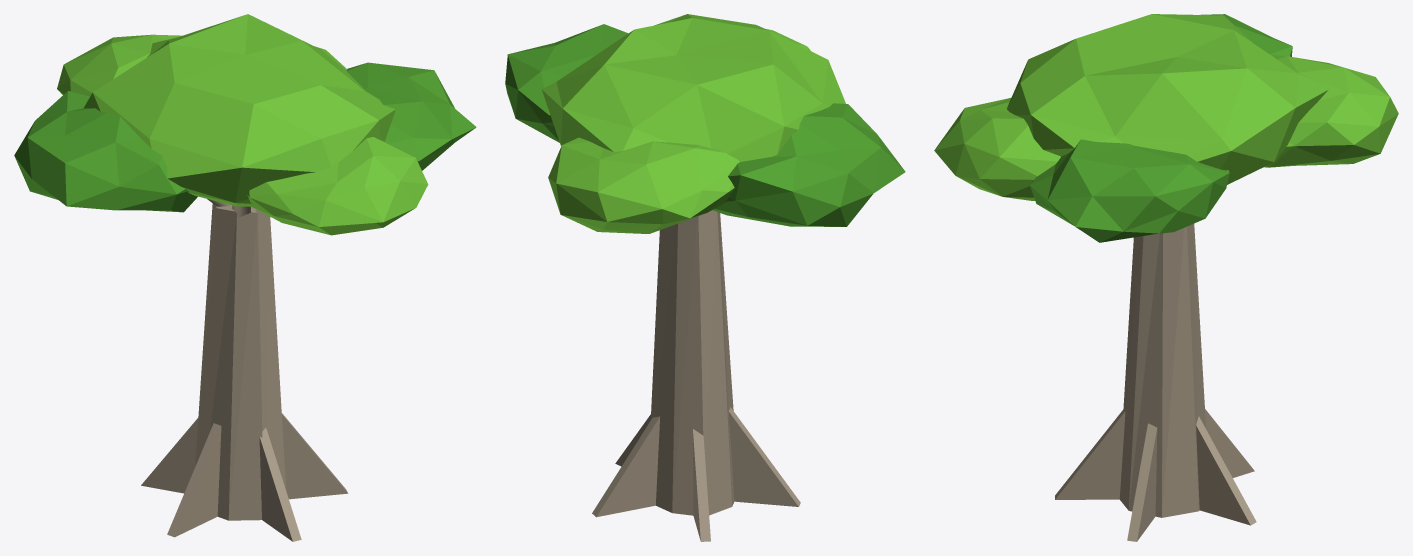
File: ceiba.glb
3 renders of one model, left to right at view 1: azimuth 30°, elevation 25°; view 2: azimuth 150°, elevation 25°; view 3: azimuth 270°, elevation 25°, orthographic.
Parts seen in each view (by area): view 1: copa_1, tronco, copa_3, copa_4, copa_2, copa_5, contrafuerte_3, contrafuerte_1, contrafuerte_2, contrafuerte_4; view 2: copa_1, tronco, copa_3, copa_5, copa_2, contrafuerte_3, contrafuerte_5, contrafuerte_4; view 3: copa_1, tronco, copa_2, copa_5, copa_4, contrafuerte_2, contrafuerte_5, contrafuerte_1, contrafuerte_4, copa_3.
Part boxes in pixels (left/top/right/bottom): copa_1: left=84, top=14, right=395, bottom=206; tronco: left=195, top=203, right=286, bottom=520; copa_3: left=14, top=91, right=197, bottom=212; copa_4: left=247, top=137, right=428, bottom=235; copa_2: left=346, top=62, right=476, bottom=170; copa_5: left=57, top=34, right=181, bottom=96; contrafuerte_3: left=167, top=423, right=221, bottom=537; contrafuerte_1: left=281, top=413, right=348, bottom=499; contrafuerte_2: left=259, top=427, right=301, bottom=541; contrafuerte_4: left=141, top=418, right=198, bottom=493; copa_1: left=541, top=14, right=845, bottom=161; tronco: left=650, top=210, right=734, bottom=515; copa_3: left=712, top=103, right=905, bottom=226; copa_5: left=548, top=137, right=739, bottom=233; copa_2: left=505, top=24, right=627, bottom=142; contrafuerte_3: left=728, top=407, right=800, bottom=506; contrafuerte_5: left=592, top=416, right=660, bottom=517; contrafuerte_4: left=693, top=429, right=710, bottom=541; copa_1: left=1007, top=14, right=1328, bottom=184; tronco: left=1119, top=223, right=1206, bottom=517; copa_2: left=1030, top=139, right=1229, bottom=242; copa_5: left=1264, top=54, right=1398, bottom=167; copa_4: left=934, top=98, right=1060, bottom=200; contrafuerte_2: left=1055, top=410, right=1125, bottom=499; contrafuerte_5: left=1196, top=416, right=1256, bottom=525; contrafuerte_1: left=1127, top=423, right=1157, bottom=541; contrafuerte_4: left=1205, top=409, right=1254, bottom=477; copa_3: left=1201, top=14, right=1292, bottom=56.
Size of the model in its own units: 7.08 by 7.77 by 7.22.
